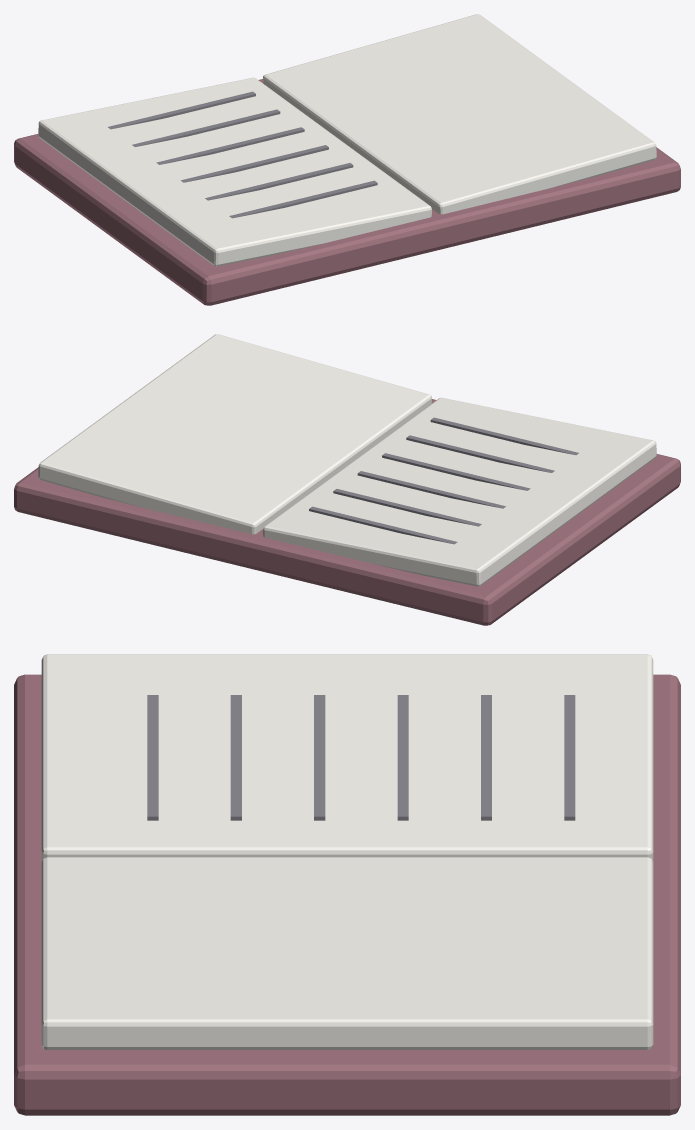
File: guest_book.fbx
3 views of the same model, one above another, from view 1: azimuth 30°, elevation 25°; view 2: azimuth 150°, elevation 25°; view 3: azimuth 270°, elevation 25° (orthographic). The views are drawn at different scales.
Visible parts, largest first — view 1: guest_book; view 2: guest_book; view 3: guest_book.
Part boxes in pixels (x1,y1,x2,y2): guest_book: (14, 14, 680, 305); guest_book: (14, 334, 680, 625); guest_book: (14, 654, 680, 1115).
Size of the model in its own units: 0.34 by 0.033 by 0.24.
